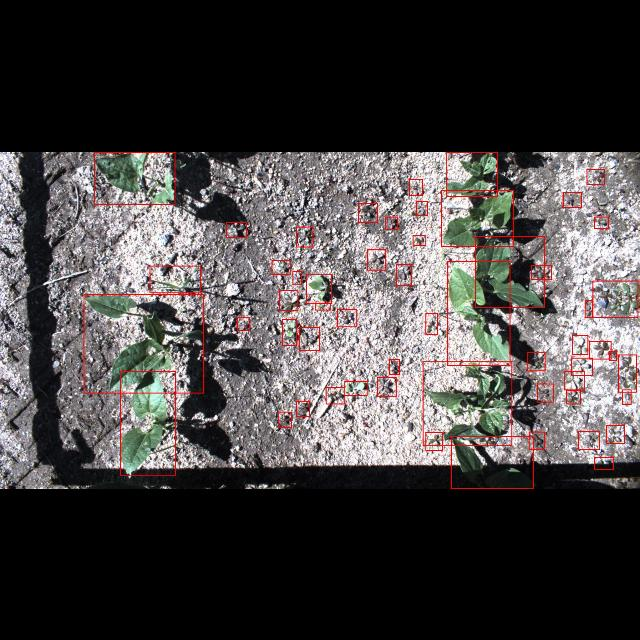crop: (422, 361, 512, 445), (448, 260, 510, 366), (120, 371, 176, 475), (476, 236, 544, 306), (94, 151, 176, 203), (451, 436, 533, 488), (441, 189, 513, 245), (447, 152, 498, 196), (150, 266, 200, 292)
weed: (84, 294, 204, 392), (592, 280, 638, 316), (306, 274, 332, 302), (618, 354, 636, 392), (299, 326, 319, 349), (358, 202, 378, 222), (564, 370, 584, 390), (578, 431, 600, 449), (589, 341, 611, 359), (378, 376, 397, 396), (282, 319, 296, 345), (280, 290, 298, 310), (368, 249, 386, 269), (606, 425, 624, 443), (297, 226, 313, 246), (396, 264, 412, 284), (572, 358, 592, 374), (572, 334, 588, 354), (531, 264, 551, 280), (345, 381, 367, 395), (338, 310, 357, 326), (426, 432, 442, 451), (528, 352, 544, 371), (326, 387, 344, 403), (538, 383, 554, 401), (586, 168, 604, 184), (226, 222, 246, 236), (529, 432, 545, 448), (272, 260, 290, 274), (426, 312, 438, 333), (563, 192, 581, 206), (594, 457, 614, 469), (296, 400, 310, 416), (278, 411, 292, 427), (410, 178, 422, 194), (566, 391, 580, 404), (417, 200, 428, 216), (594, 216, 608, 228), (237, 318, 250, 330), (386, 216, 398, 228), (292, 270, 302, 284), (389, 360, 399, 374), (412, 235, 426, 245), (622, 390, 632, 404), (586, 300, 592, 316), (316, 303, 330, 309), (610, 350, 616, 360)
